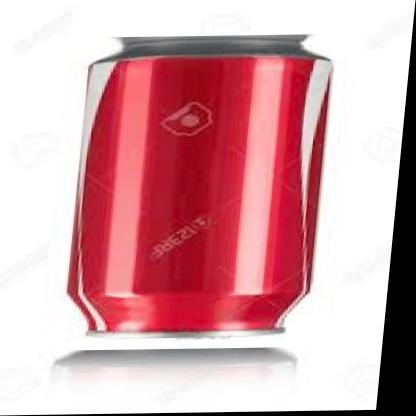trash: (68, 35, 331, 331)
